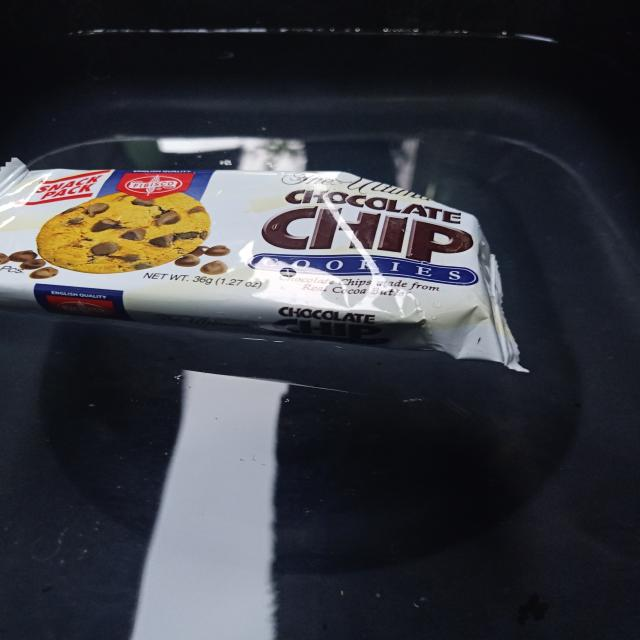Plastic Wrapper: (0, 140, 559, 394)
